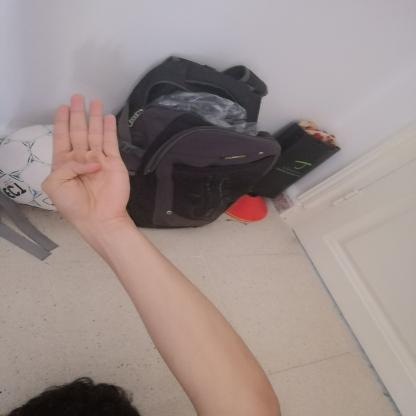KAAF: (28, 86, 142, 234)
